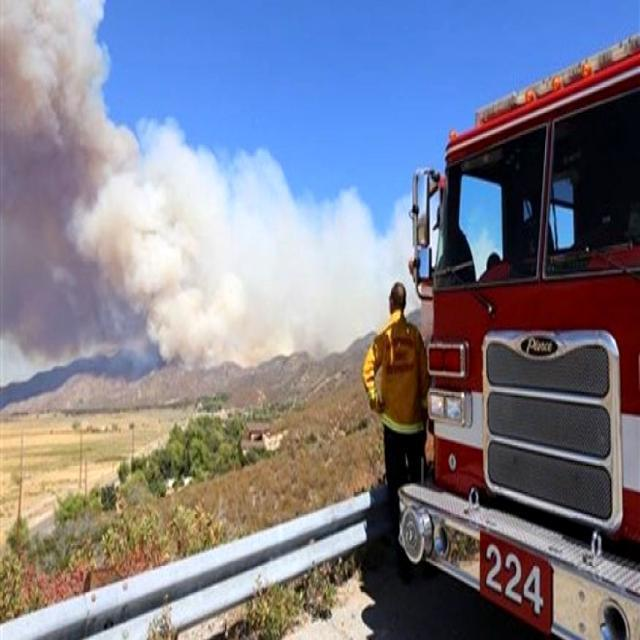Smoke: (0, 0, 234, 379), (198, 140, 406, 353)
